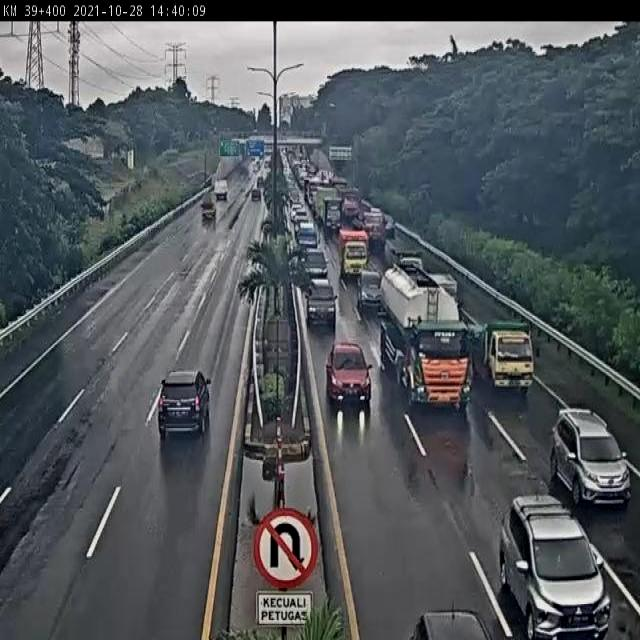Car: (499, 495, 610, 638), (550, 408, 632, 508), (326, 334, 376, 417), (156, 369, 212, 440), (410, 608, 498, 639), (305, 280, 337, 328), (357, 268, 384, 316), (301, 248, 329, 286), (296, 223, 318, 250), (214, 179, 228, 201), (384, 214, 395, 239), (251, 184, 261, 201)
Truck: (374, 262, 476, 406), (472, 302, 539, 394)
